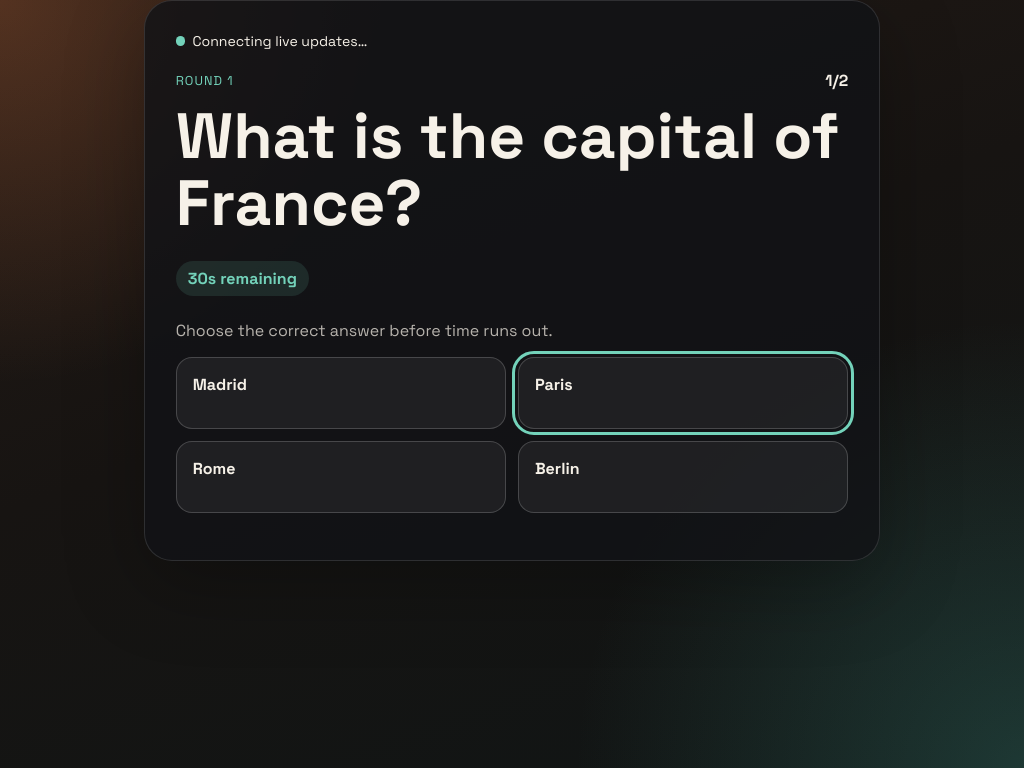
Scenario: RoomPage › renders four server-ordered opaque choices and submits only one option ID
What coordinates should you click on to do the following:
click the button "Paris"
I would click on:
 (554, 385)
Its box is [518,358,848,430].
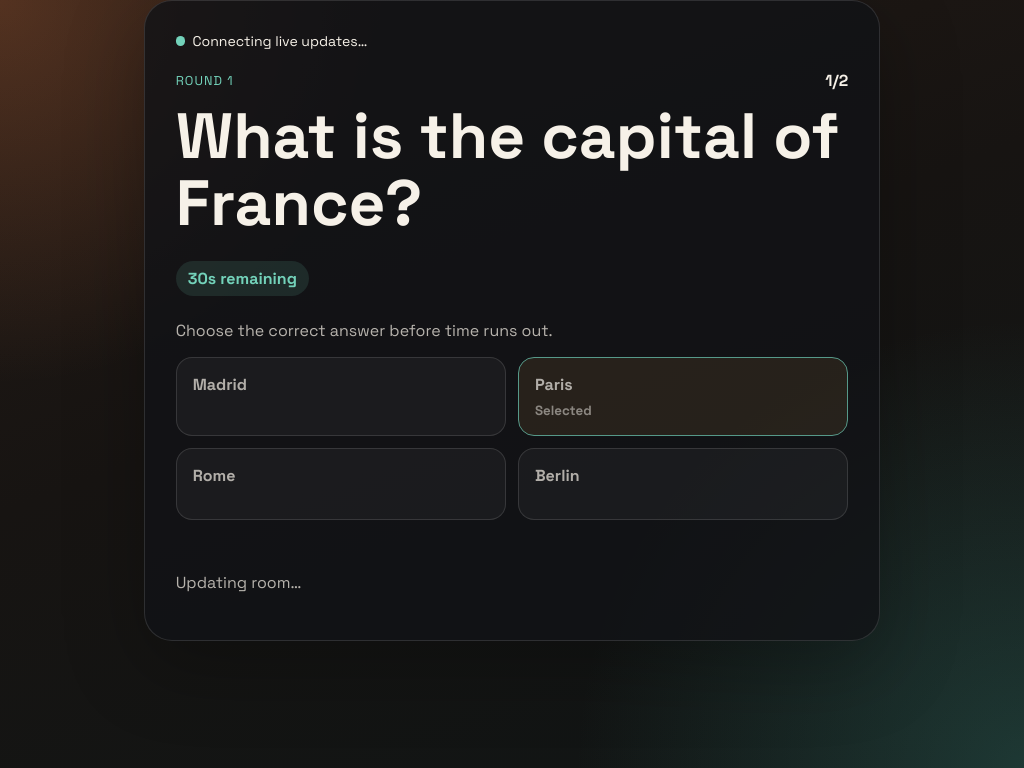
What coordinates should you click on to do the following:
click the button "Paris Selected"
I would click on:
 (554, 385)
Its box is [518,358,848,436].
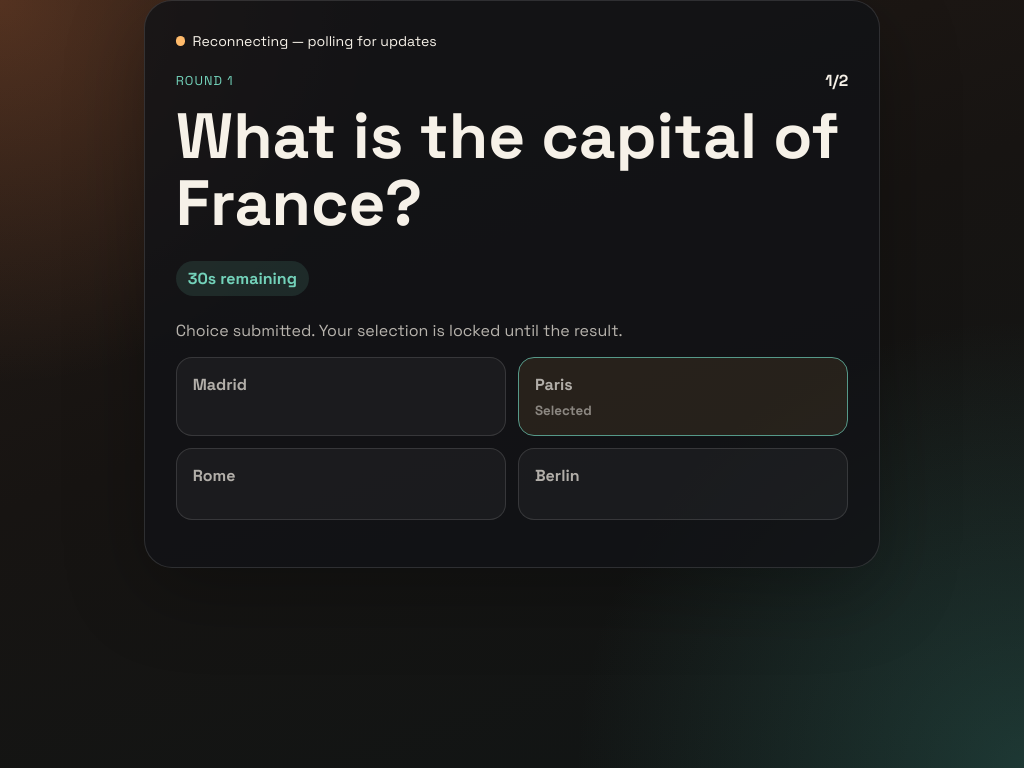
Check: the text "Choice submitted. Your selection is locked until the result." is shown, box [176,320,623,342]
